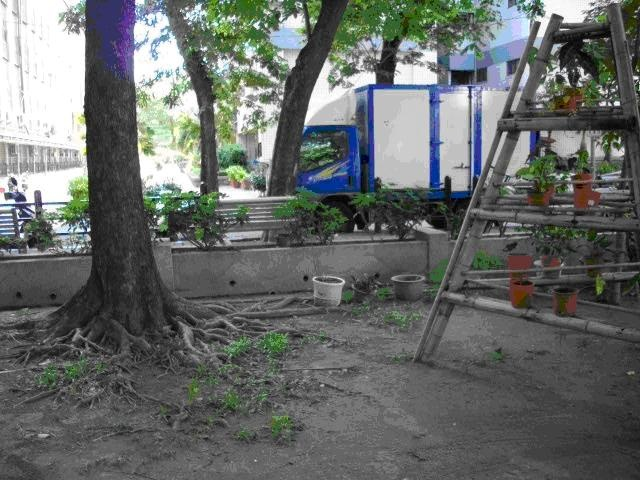bowl: (313, 274, 345, 307), (391, 273, 426, 302)
